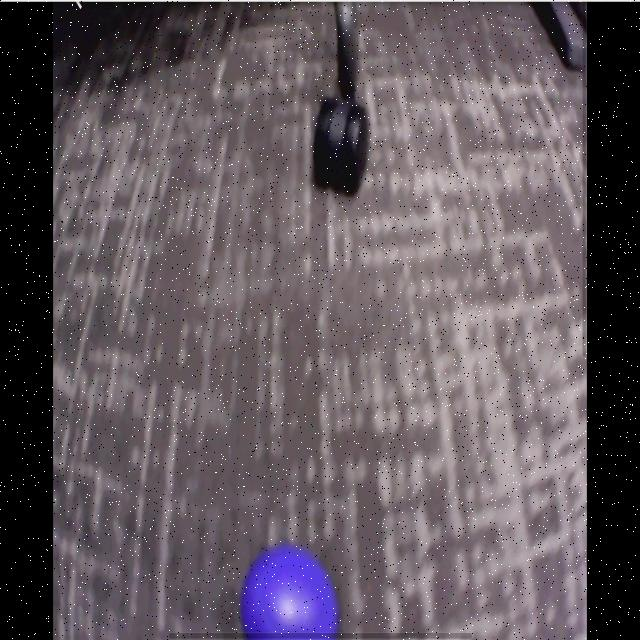ball: (240, 547, 338, 637)
